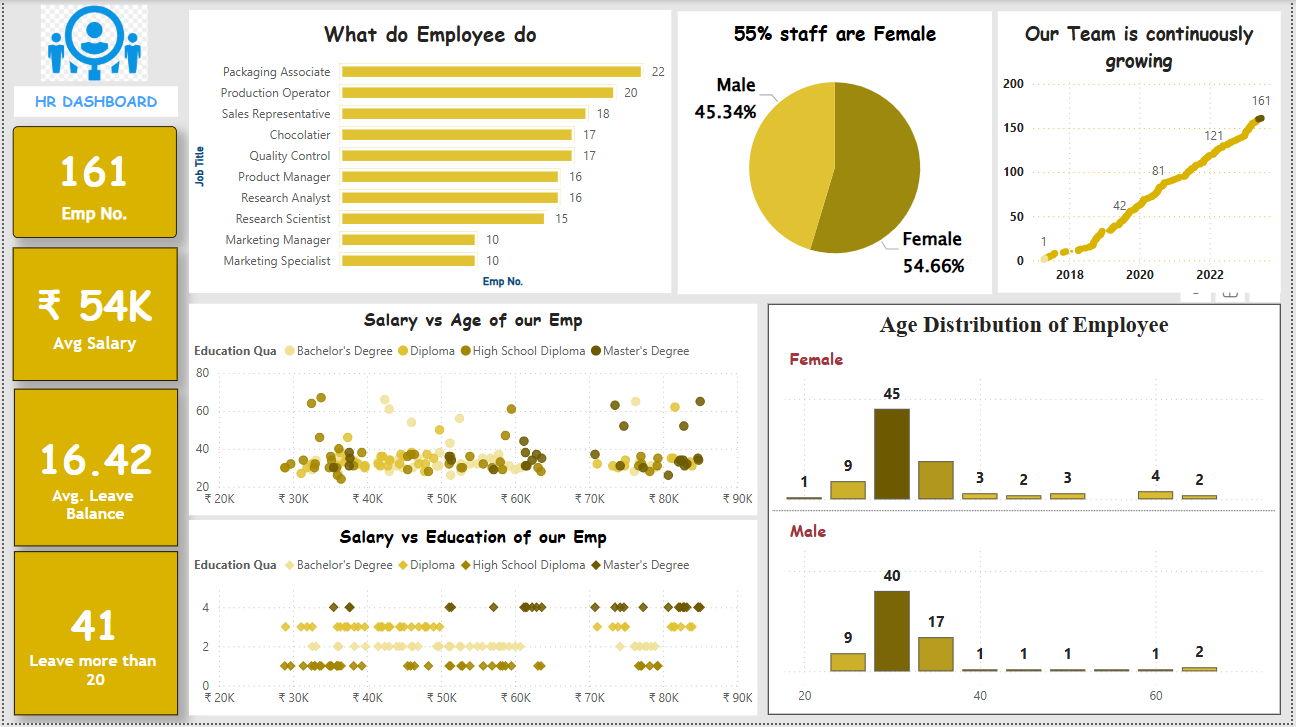

This screenshot's page, from the dashboard's own definition file:
{"tool":"powerbi","page":{"name":"Page 9","canvas":[1280,720],"ordinal":8},"visuals":[{"type":"card","fields":{"Values":["HR Data.Emp No."]},"box":[8.6,125.7,162.9,111.4],"z":0},{"type":"card","fields":{"Values":["HR Data.Avg Salary"]},"box":[8.6,245.7,164.3,132.9],"z":1000},{"type":"card","fields":{"Values":["HR Data.Avg. Leave Balance"]},"box":[10,387.1,162.9,157.1],"z":2000},{"type":"card","fields":{"Values":["HR Data.Leave more than 20"]},"box":[10,548.6,162.9,162.9],"z":3000},{"type":"clusteredBarChart","title":"What do Employee do","fields":{"Category":["HR Data.Job Title"],"Y":["HR Data.Emp No."]},"box":[184.3,10,480,281.4],"z":4000},{"type":"pieChart","title":"55%  staff are Female","fields":{"Category":["HR Data.Gender"],"Y":["HR Data.Emp No."]},"box":[670,11.4,312.9,281.4],"z":5000},{"type":"columnChart","title":"Age Distribution of Employee","fields":{"Category":["HR Data.Age (bins)"],"Y":["HR Data.Emp No."],"Rows":["HR Data.Gender"]},"box":[760,302.9,510,408.6],"z":6000},{"type":"lineChart","title":"Our Team is continuously growing","fields":{"Category":["HR Data.Date of Join"],"Y":["HR Data.Cumulative Headcount"]},"box":[988.6,11.4,281.4,280],"z":7000},{"type":"scatterChart","title":"Salary vs Age of our Emp","fields":{"X":["HR Data.Salary"],"Y":["HR Data.Age"],"Series":["Education Qualification.Education Qua"]},"box":[184.3,302.9,565.7,210],"z":8000},{"type":"scatterChart","title":" Salary vs Education of our Emp","fields":{"X":["HR Data.Salary"],"Y":["Education Qualification.Edu Qua ID"],"Series":["Education Qualification.Education Qua"]},"box":[184.3,517.1,565.7,194.3],"z":9000},{"type":"image","box":[8.6,0,162.9,85.7],"z":12000},{"type":"textbox","box":[10,85.7,162.9,30],"z":12001}]}

Visuals, with their boxes in screenshot pixels (x1, y1, x2, y2), scaled from the page's 1280x720 canvas onto the 1296x727 screenshot:
card - HR Data.Emp No.: <box>9,127,174,239</box>
card - HR Data.Avg Salary: <box>9,248,175,382</box>
card - HR Data.Avg. Leave Balance: <box>10,391,175,549</box>
card - HR Data.Leave more than 20: <box>10,554,175,718</box>
"What do Employee do" clusteredBarChart: <box>187,10,673,294</box>
"55%  staff are Female" pieChart: <box>678,12,995,296</box>
"Age Distribution of Employee" columnChart: <box>770,306,1286,718</box>
"Our Team is continuously growing" lineChart: <box>1001,12,1286,294</box>
"Salary vs Age of our Emp" scatterChart: <box>187,306,759,518</box>
" Salary vs Education of our Emp" scatterChart: <box>187,522,759,718</box>
image: <box>9,0,174,87</box>
textbox: <box>10,87,175,117</box>
